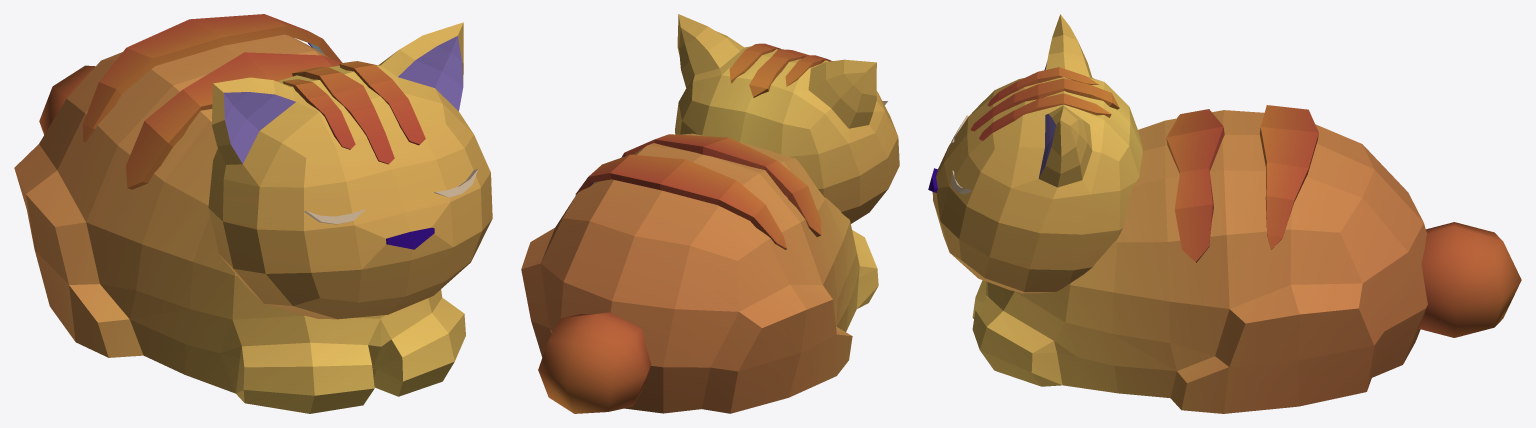
Rendered from sc_cat_interactable_a.fbx.
The picture shows the model from 3 angles, left to right: view 1: azimuth 30°, elevation 25°; view 2: azimuth 150°, elevation 25°; view 3: azimuth 270°, elevation 25°; orthographic projection. The views are drawn at different scales.
Parts seen in each view (by area): view 1: sc_cat_interactable_a; view 2: sc_cat_interactable_a; view 3: sc_cat_interactable_a.
Boxes of the visible parts, x1,y1,x2,y2 form: sc_cat_interactable_a: [14, 14, 492, 413]; sc_cat_interactable_a: [521, 14, 899, 413]; sc_cat_interactable_a: [928, 14, 1521, 413].
Bounding box in the file's own units: 22.69 × 19.46 × 38.01.
